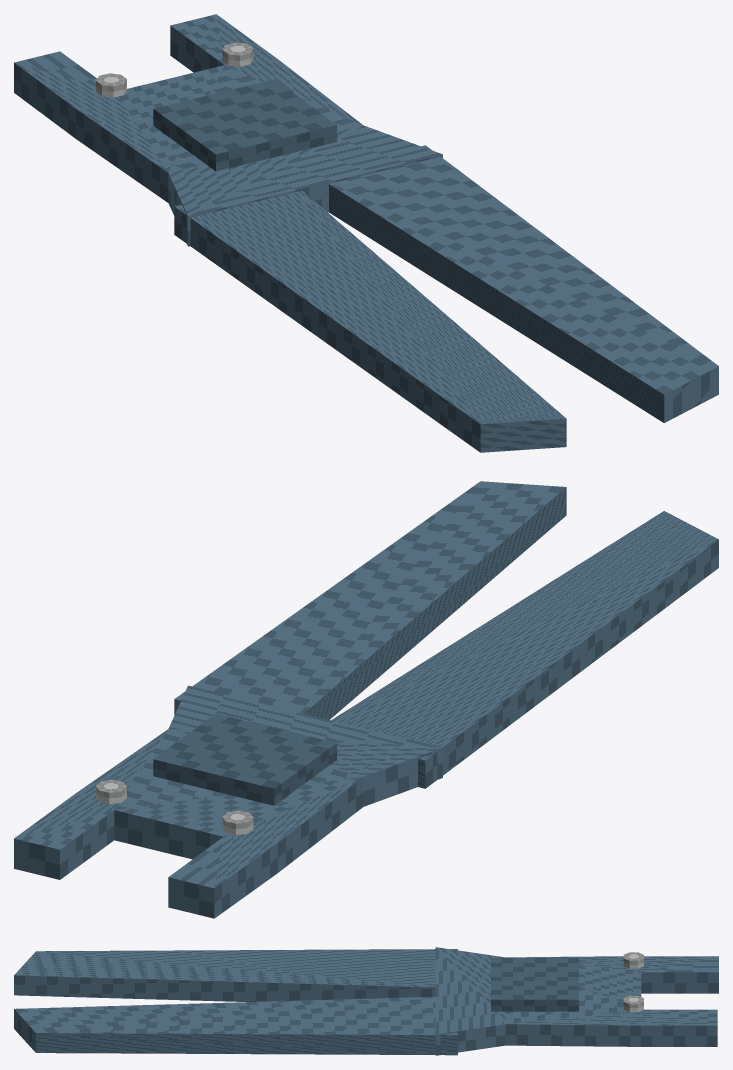
Rendered from denim_overalls.glb.
The picture shows the model from 3 angles, top to bottom: view 1: azimuth 30°, elevation 25°; view 2: azimuth 150°, elevation 25°; view 3: azimuth 270°, elevation 25°; orthographic projection. The views are drawn at different scales.
Visible parts, largest first — view 1: block_trouser leg (×2), block_tailored torso, block_bib pocket; view 2: block_trouser leg (×2), block_tailored torso, block_bib pocket; view 3: block_trouser leg (×2), block_tailored torso, block_bib pocket, block_bib clasp (×2).
Part boxes in pixels (x1,y1,x2,y2): block_trouser leg (×2): (174, 145, 718, 452); block_tailored torso: (14, 14, 442, 246); block_bib pocket: (153, 79, 336, 171); block_trouser leg (×2): (174, 481, 718, 788); block_tailored torso: (14, 685, 442, 918); block_bib pocket: (153, 713, 336, 805); block_trouser leg (×2): (14, 949, 457, 1055); block_tailored torso: (435, 947, 718, 1055); block_bib pocket: (491, 958, 578, 1011); block_bib clasp (×2): (623, 952, 643, 1012).
Bounding box in the file's own units: 0.2359 × 0.0427 × 0.804.
Materials: 1 (1 with a texture image).
